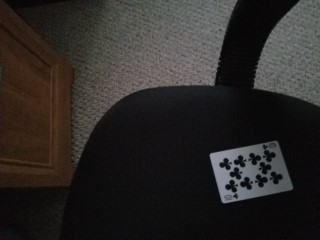TenOfClubs: (207, 138, 293, 204)
